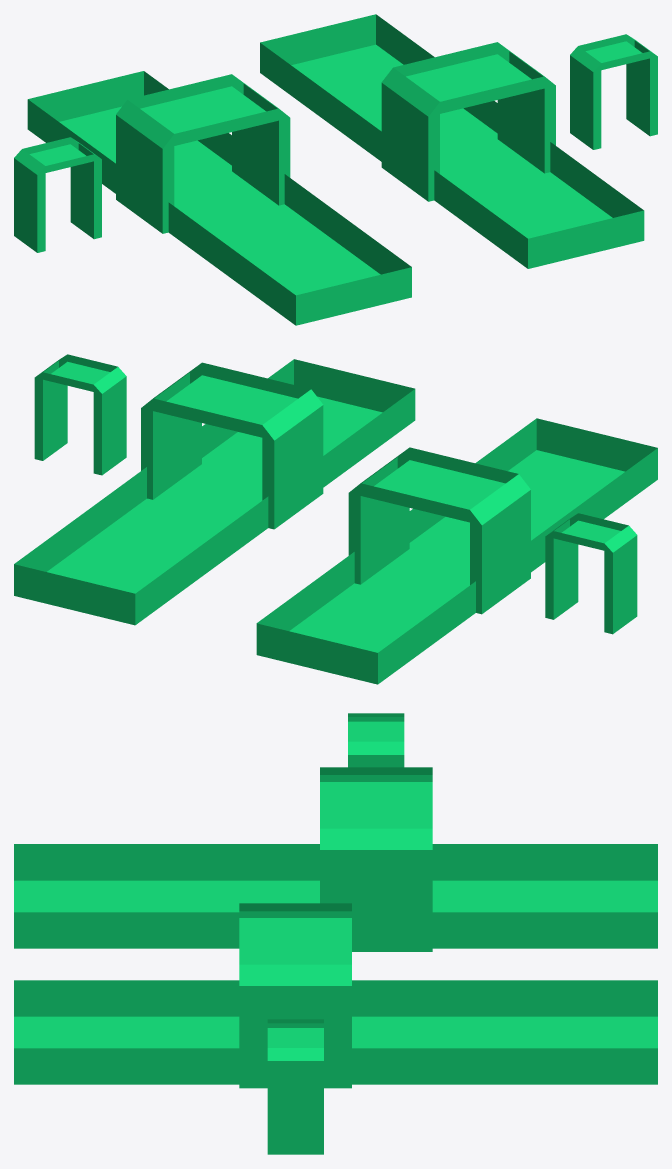
Rendered from Encounter_003_Converyers_Sides.fbx.
3 views of the same model, one above another, from view 1: azimuth 30°, elevation 25°; view 2: azimuth 150°, elevation 25°; view 3: azimuth 270°, elevation 25° (orthographic). The views are drawn at different scales.
Parts seen in each view (by area): view 1: Encounter_003_Converyers_Sides; view 2: Encounter_003_Converyers_Sides; view 3: Encounter_003_Converyers_Sides.
Part boxes in pixels (left/top/right/bottom): Encounter_003_Converyers_Sides: left=14, top=14, right=657, bottom=325; Encounter_003_Converyers_Sides: left=14, top=354, right=657, bottom=684; Encounter_003_Converyers_Sides: left=14, top=713, right=657, bottom=1154.
Bounding box in the file's own units: 2023 × 320 × 1600.
